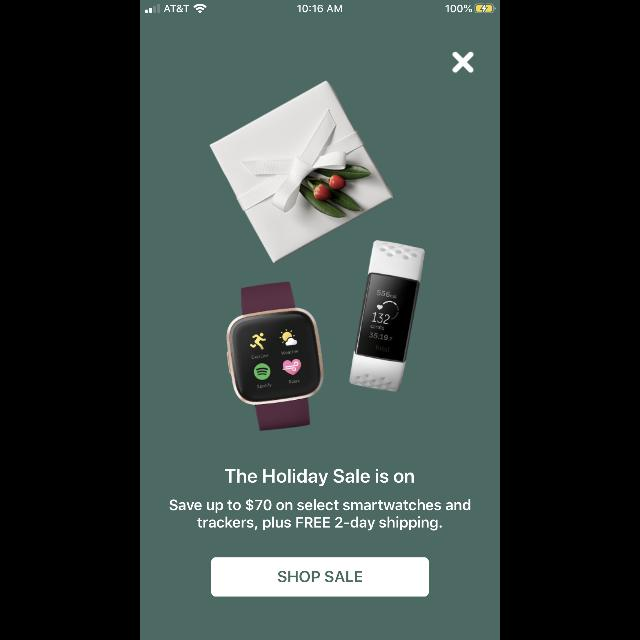backgroundimage: (140, 1, 500, 640)
icon: (452, 51, 474, 73)
image: (210, 80, 426, 432)
text: (170, 499, 470, 531), (226, 468, 414, 486)
textbutton: (212, 558, 428, 596)
uppertaskbar: (140, 0, 500, 14)
